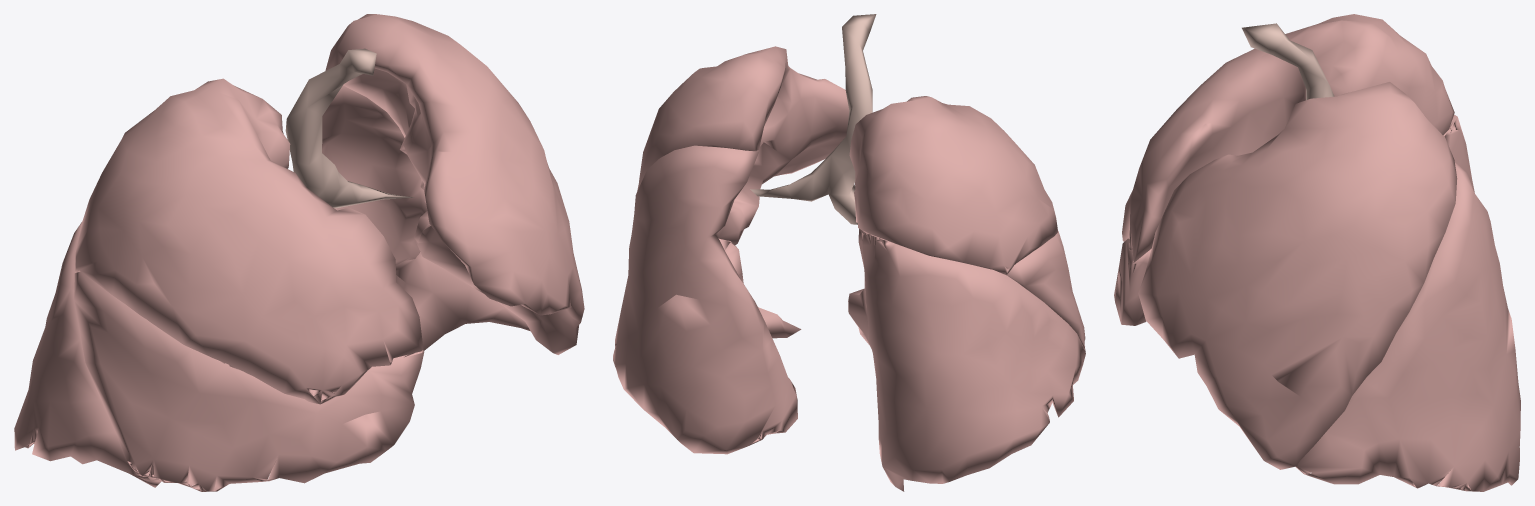
The model's file is tsd_s0196_older_adult_female.respiratory.LOD4.glb.
3 renders of one model, left to right at view 1: azimuth 30°, elevation 25°; view 2: azimuth 150°, elevation 25°; view 3: azimuth 270°, elevation 25°, orthographic. The views are drawn at different scales.
Visible parts, largest first — view 1: TSD_S0196.OLDER_ADULT.FEMALE.RESPIRATORY.SUPERIOR_LOBE_OF_RI, TSD_S0196.OLDER_ADULT.FEMALE.RESPIRATORY.SUPERIOR_LOBE_OF_LE, TSD_S0196.OLDER_ADULT.FEMALE.RESPIRATORY.MIDDLE_LOBE_OF_RIGH, TSD_S0196.OLDER_ADULT.FEMALE.RESPIRATORY.INFERIOR_LOBE_OF_LE, TSD_S0196.OLDER_ADULT.FEMALE.RESPIRATORY.INFERIOR_LOBE_OF_RI, TSD_S0196.OLDER_ADULT.FEMALE.RESPIRATORY.TRACHEA; view 2: TSD_S0196.OLDER_ADULT.FEMALE.RESPIRATORY.INFERIOR_LOBE_OF_RI, TSD_S0196.OLDER_ADULT.FEMALE.RESPIRATORY.INFERIOR_LOBE_OF_LE, TSD_S0196.OLDER_ADULT.FEMALE.RESPIRATORY.SUPERIOR_LOBE_OF_RI, TSD_S0196.OLDER_ADULT.FEMALE.RESPIRATORY.SUPERIOR_LOBE_OF_LE, TSD_S0196.OLDER_ADULT.FEMALE.RESPIRATORY.TRACHEA, TSD_S0196.OLDER_ADULT.FEMALE.RESPIRATORY.MIDDLE_LOBE_OF_RIGH; view 3: TSD_S0196.OLDER_ADULT.FEMALE.RESPIRATORY.SUPERIOR_LOBE_OF_LE, TSD_S0196.OLDER_ADULT.FEMALE.RESPIRATORY.INFERIOR_LOBE_OF_LE, TSD_S0196.OLDER_ADULT.FEMALE.RESPIRATORY.SUPERIOR_LOBE_OF_RI, TSD_S0196.OLDER_ADULT.FEMALE.RESPIRATORY.TRACHEA, TSD_S0196.OLDER_ADULT.FEMALE.RESPIRATORY.MIDDLE_LOBE_OF_RIGH, TSD_S0196.OLDER_ADULT.FEMALE.RESPIRATORY.INFERIOR_LOBE_OF_RI.
Part boxes in pixels (left/top/right/bottom): TSD_S0196.OLDER_ADULT.FEMALE.RESPIRATORY.SUPERIOR_LOBE_OF_RI: left=75, top=78, right=423, bottom=404; TSD_S0196.OLDER_ADULT.FEMALE.RESPIRATORY.SUPERIOR_LOBE_OF_LE: left=325, top=14, right=584, bottom=354; TSD_S0196.OLDER_ADULT.FEMALE.RESPIRATORY.MIDDLE_LOBE_OF_RIGH: left=74, top=271, right=424, bottom=491; TSD_S0196.OLDER_ADULT.FEMALE.RESPIRATORY.INFERIOR_LOBE_OF_LE: left=322, top=85, right=530, bottom=355; TSD_S0196.OLDER_ADULT.FEMALE.RESPIRATORY.INFERIOR_LOBE_OF_RI: left=14, top=221, right=161, bottom=487; TSD_S0196.OLDER_ADULT.FEMALE.RESPIRATORY.TRACHEA: left=285, top=48, right=413, bottom=208; TSD_S0196.OLDER_ADULT.FEMALE.RESPIRATORY.INFERIOR_LOBE_OF_RI: left=848, top=228, right=1085, bottom=491; TSD_S0196.OLDER_ADULT.FEMALE.RESPIRATORY.INFERIOR_LOBE_OF_LE: left=613, top=145, right=801, bottom=454; TSD_S0196.OLDER_ADULT.FEMALE.RESPIRATORY.SUPERIOR_LOBE_OF_RI: left=849, top=96, right=1057, bottom=275; TSD_S0196.OLDER_ADULT.FEMALE.RESPIRATORY.SUPERIOR_LOBE_OF_LE: left=637, top=46, right=849, bottom=244; TSD_S0196.OLDER_ADULT.FEMALE.RESPIRATORY.TRACHEA: left=750, top=14, right=876, bottom=224; TSD_S0196.OLDER_ADULT.FEMALE.RESPIRATORY.MIDDLE_LOBE_OF_RIGH: left=1007, top=231, right=1085, bottom=349; TSD_S0196.OLDER_ADULT.FEMALE.RESPIRATORY.SUPERIOR_LOBE_OF_LE: left=1138, top=82, right=1457, bottom=469; TSD_S0196.OLDER_ADULT.FEMALE.RESPIRATORY.INFERIOR_LOBE_OF_LE: left=1295, top=162, right=1520, bottom=491; TSD_S0196.OLDER_ADULT.FEMALE.RESPIRATORY.SUPERIOR_LOBE_OF_RI: left=1122, top=14, right=1454, bottom=262; TSD_S0196.OLDER_ADULT.FEMALE.RESPIRATORY.TRACHEA: left=1242, top=23, right=1334, bottom=100; TSD_S0196.OLDER_ADULT.FEMALE.RESPIRATORY.MIDDLE_LOBE_OF_RIGH: left=1114, top=238, right=1151, bottom=325; TSD_S0196.OLDER_ADULT.FEMALE.RESPIRATORY.INFERIOR_LOBE_OF_RI: left=1443, top=114, right=1474, bottom=192.
Bounding box in the file's own units: 0.2528 × 0.2135 × 0.1818.
